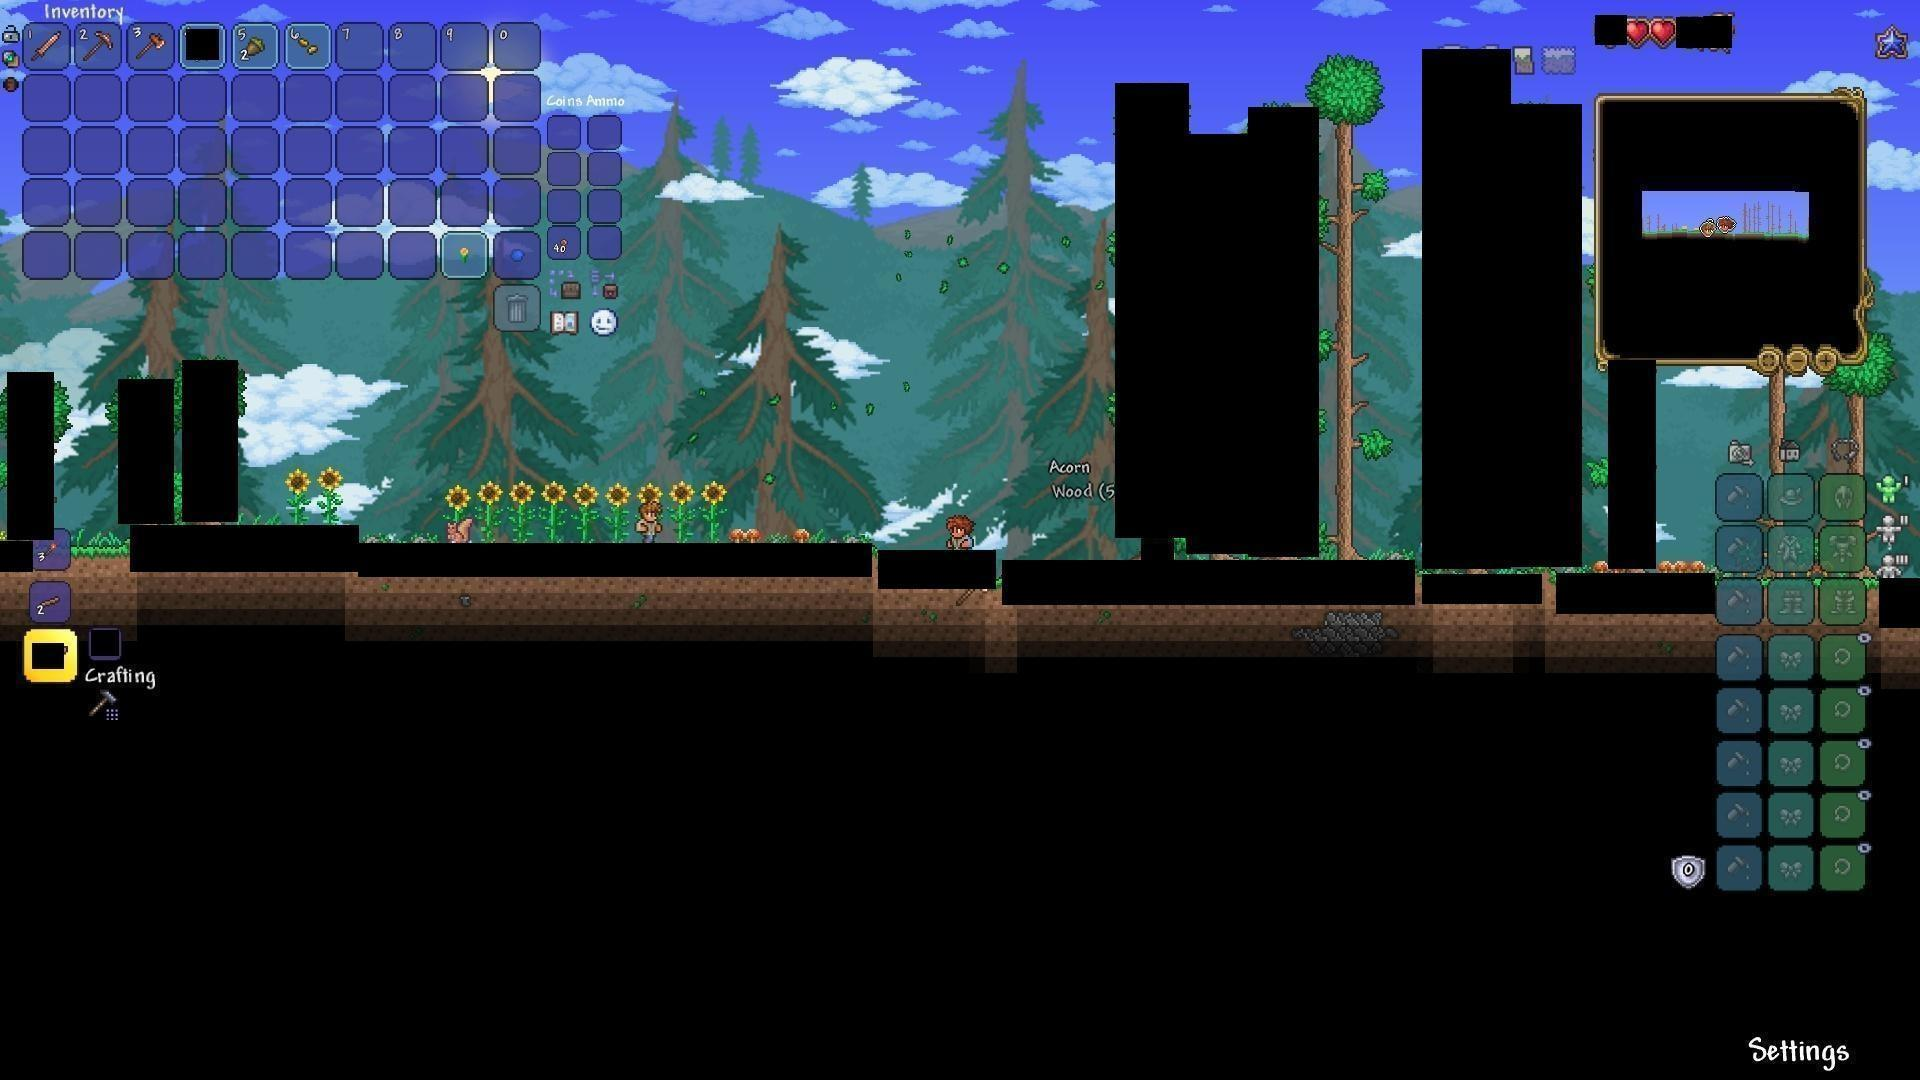dirt: (75, 539, 125, 564)
heart: (1648, 17, 1676, 47), (1625, 17, 1651, 46)
tree: (1319, 87, 1395, 556), (1830, 335, 1890, 472)
